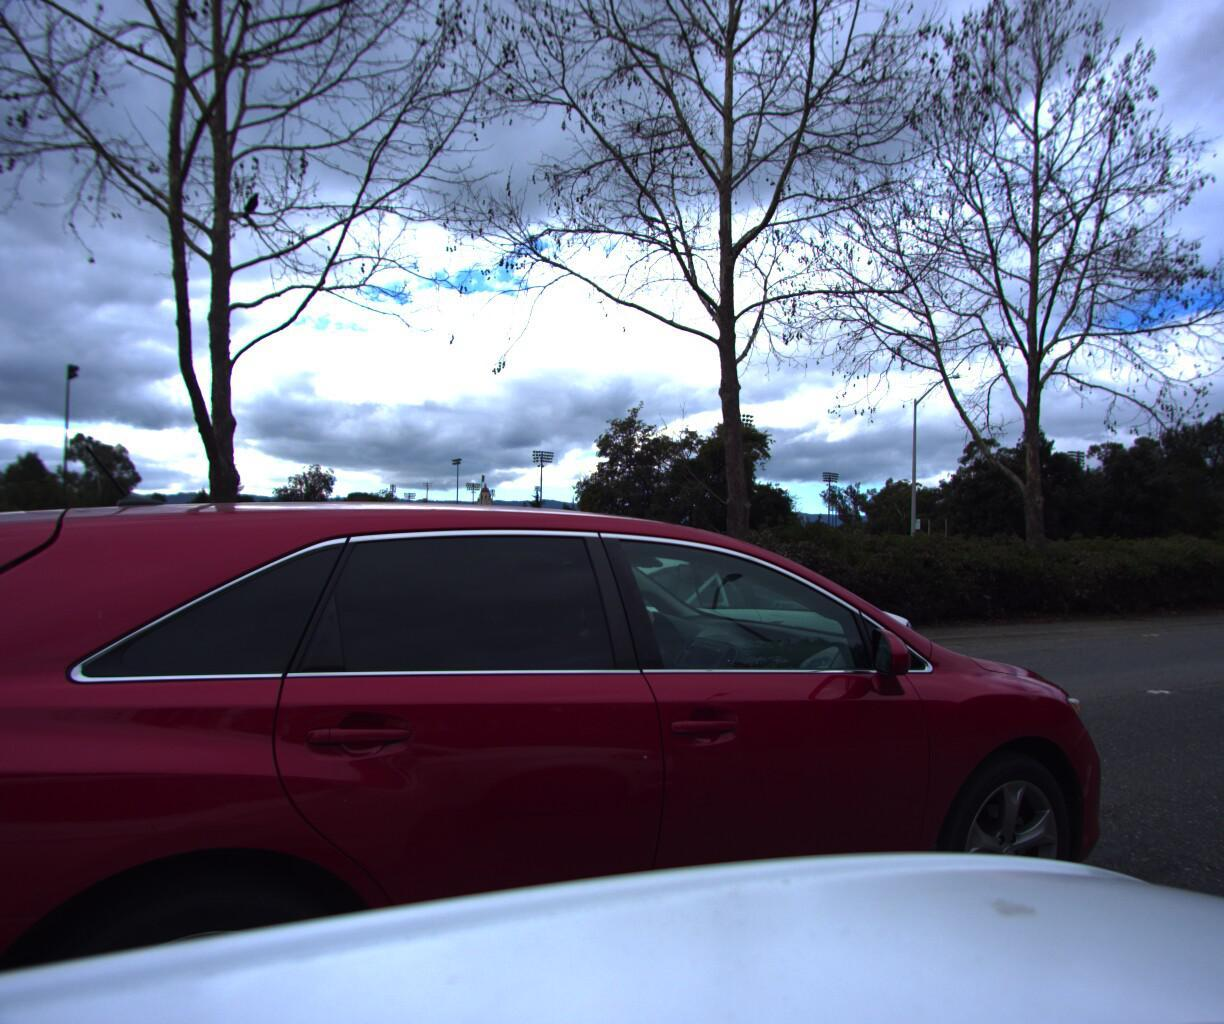car: (0, 424, 1133, 1024), (495, 513, 942, 714)
